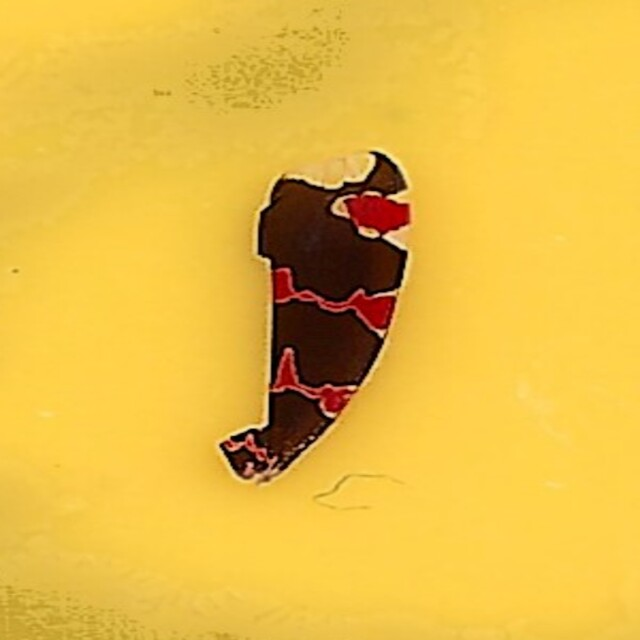Hemiptera: (213, 145, 427, 495)
